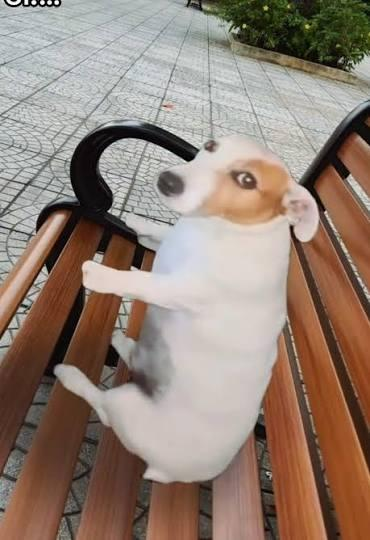adult_dog: (54, 133, 320, 486)
